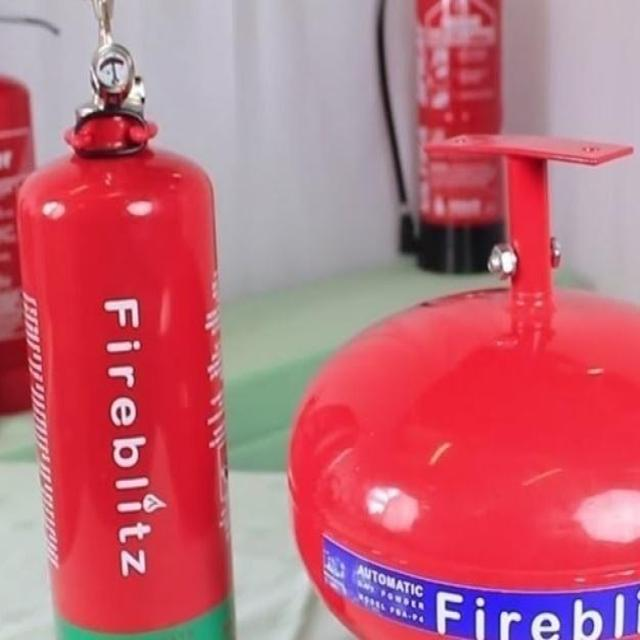fire_extinguisher: (279, 118, 639, 639), (9, 0, 238, 639), (367, 0, 513, 279), (0, 7, 65, 423)
